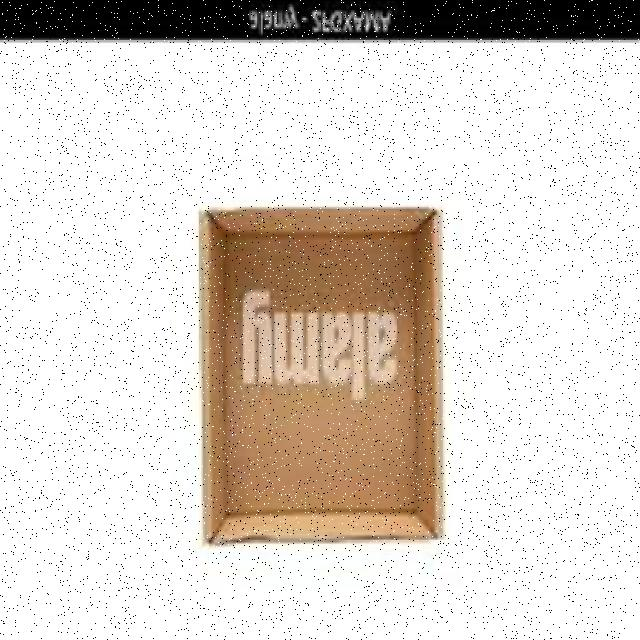defect: (189, 202, 451, 549)
